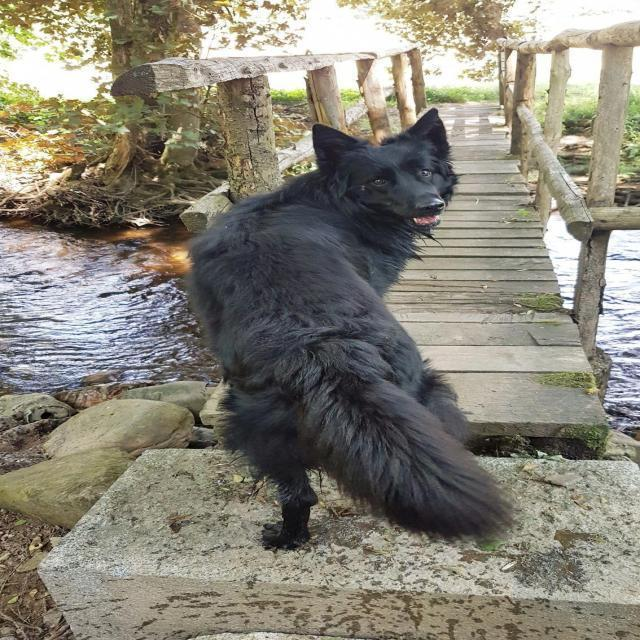Not_a_Chicken: (165, 75, 529, 554)
